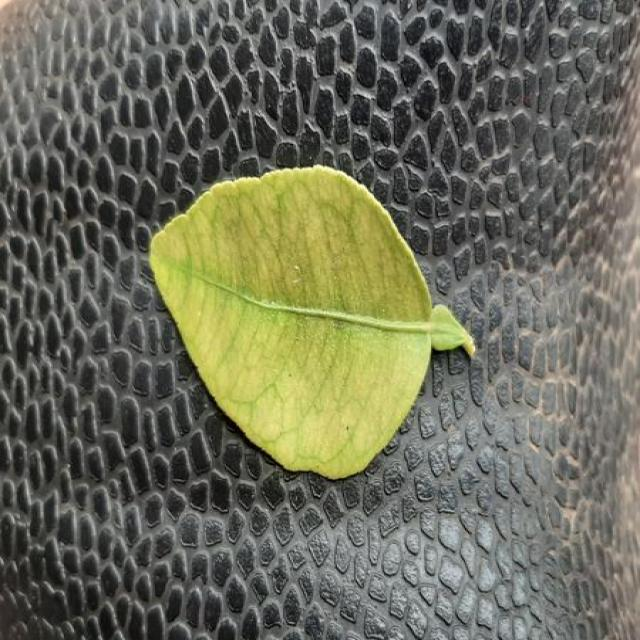lemon: (150, 166, 475, 478)
